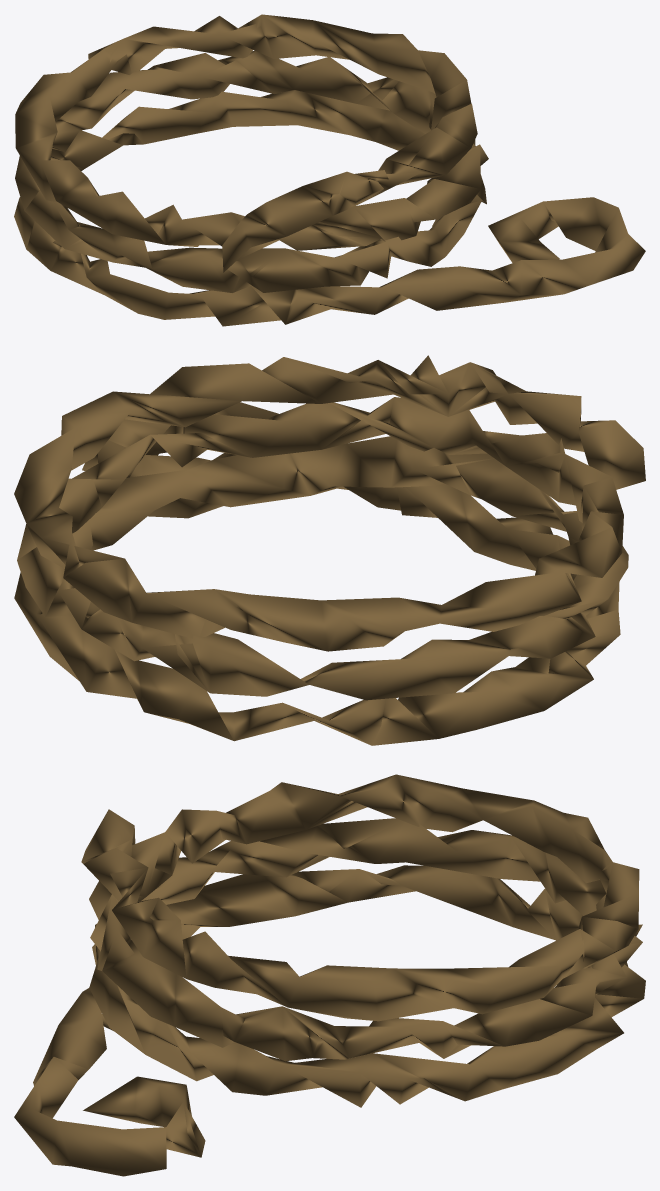
The model's file is cove-rope-coil.lod0.glb.
The picture shows the model from 3 angles, top to bottom: view 1: azimuth 30°, elevation 25°; view 2: azimuth 150°, elevation 25°; view 3: azimuth 270°, elevation 25°; orthographic projection. The views are drawn at different scales.
Visible parts, largest first — view 1: Object_4; view 2: Object_4; view 3: Object_4.
Boxes of the visible parts, box(x1,y1,x2,y2) form: Object_4: box(14, 14, 645, 326); Object_4: box(14, 355, 645, 745); Object_4: box(14, 774, 645, 1176).
Bounding box in the file's own units: 0.6936 × 0.2009 × 0.6652.
